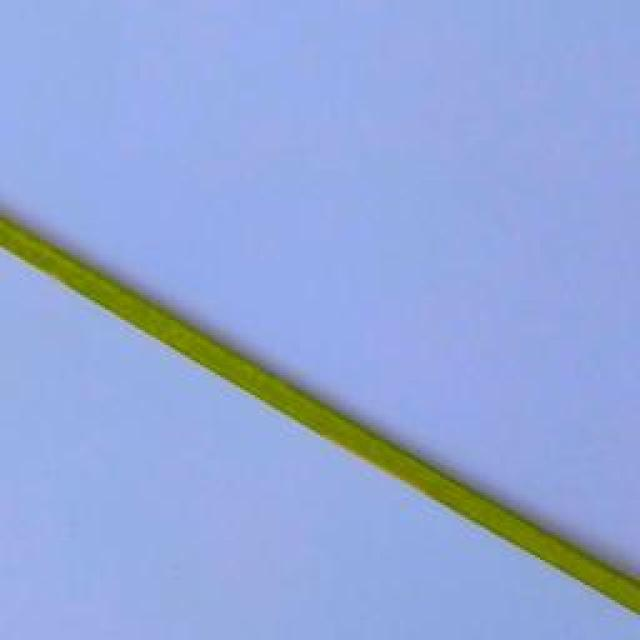Healthy-Plant: (0, 209, 640, 613)
